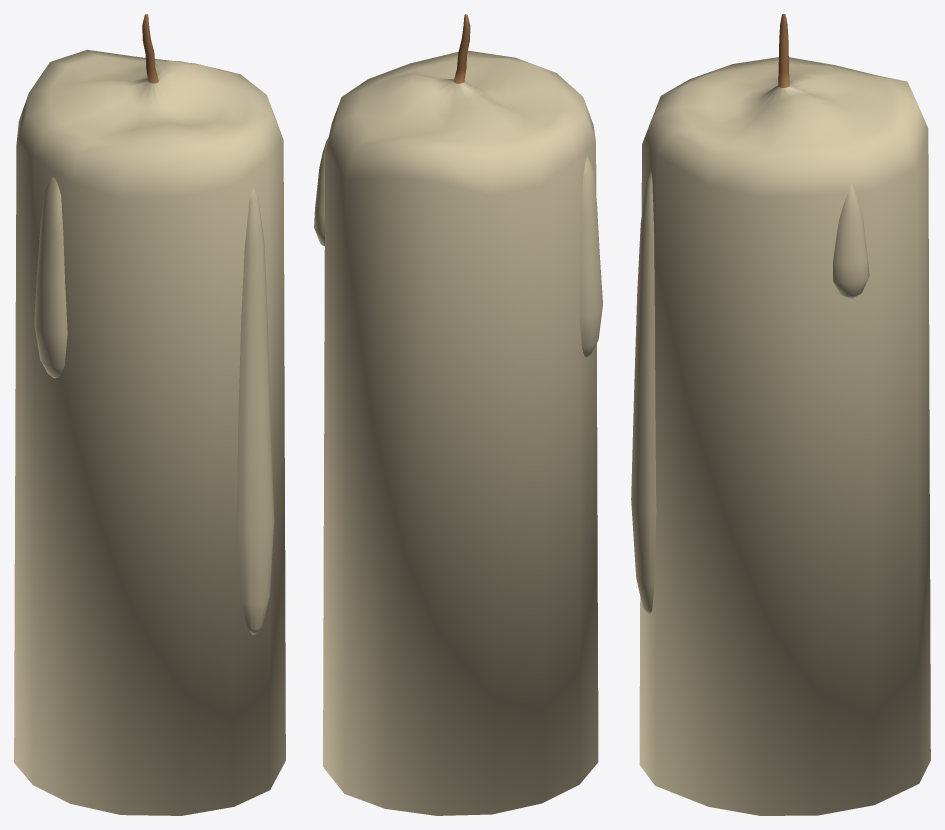
The model's file is CandleVar1.fbx.
3 renders of one model, left to right at view 1: azimuth 30°, elevation 25°; view 2: azimuth 150°, elevation 25°; view 3: azimuth 270°, elevation 25°, orthographic.
Visible parts, largest first — view 1: CandleVar1; view 2: CandleVar1; view 3: CandleVar1.
Part boxes in pixels (x1,y1,x2,y2): CandleVar1: (14, 14, 285, 815); CandleVar1: (314, 14, 602, 815); CandleVar1: (631, 14, 930, 815).
Bounding box in the file's own units: 13.67 × 40.37 × 14.75.
